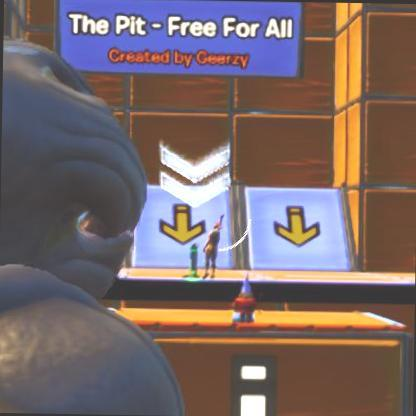person: (203, 224, 224, 277)
